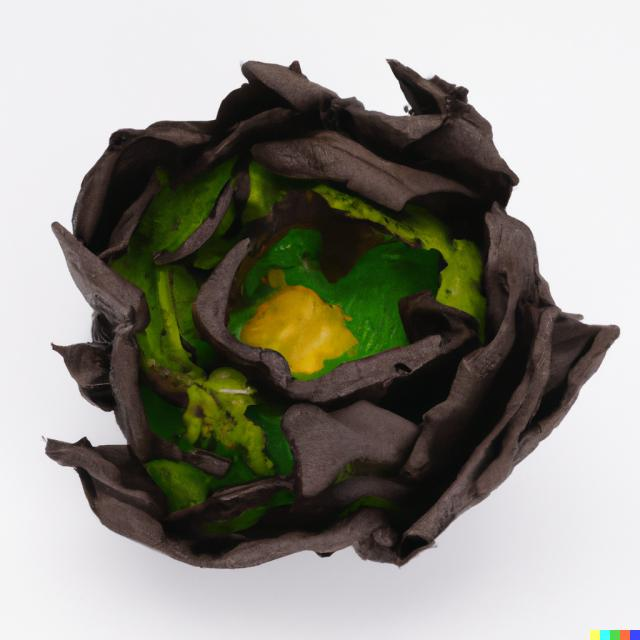-K: (39, 42, 634, 584)
